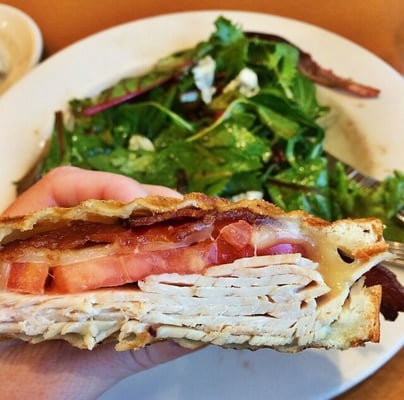soup: (0, 6, 403, 351)
sushi: (1, 9, 388, 316)
